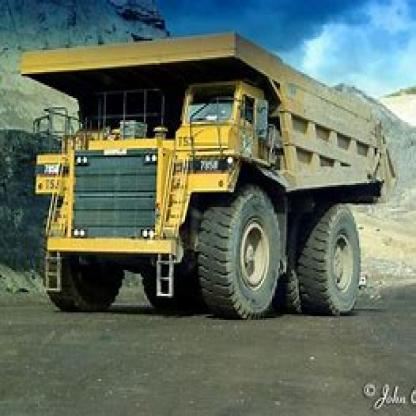dump_truck: (9, 29, 414, 320)
